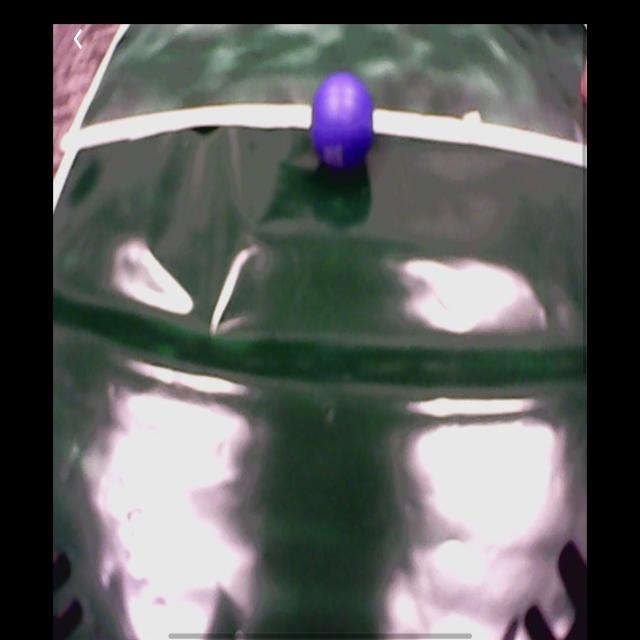ball: (313, 75, 374, 170)
